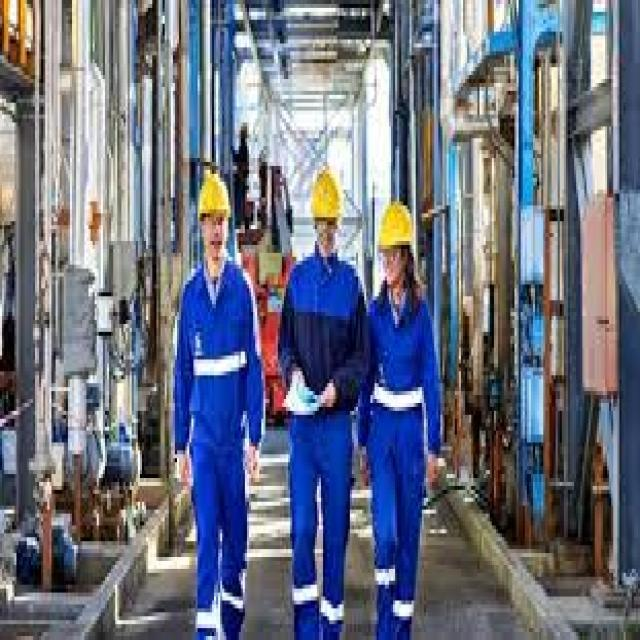reflective_jacket: (170, 260, 267, 462)
safety_helmet: (306, 158, 347, 229), (374, 193, 417, 260), (193, 166, 234, 229)
